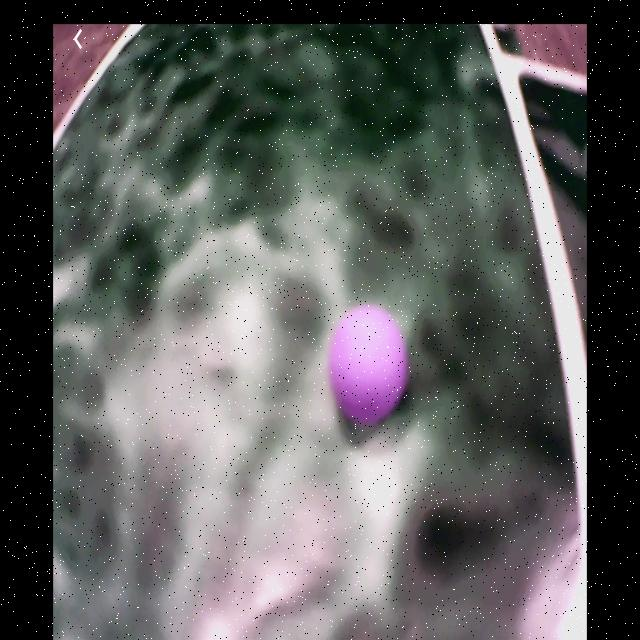ball: (330, 304, 409, 428)
